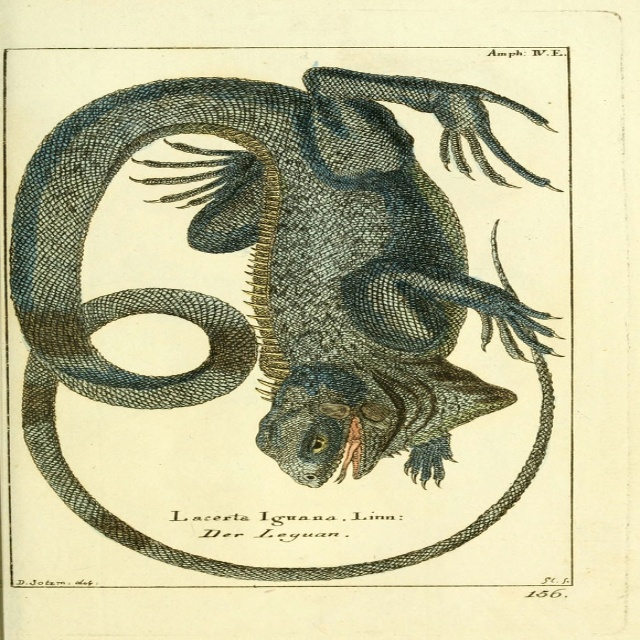Lizard: (3, 64, 564, 584)
